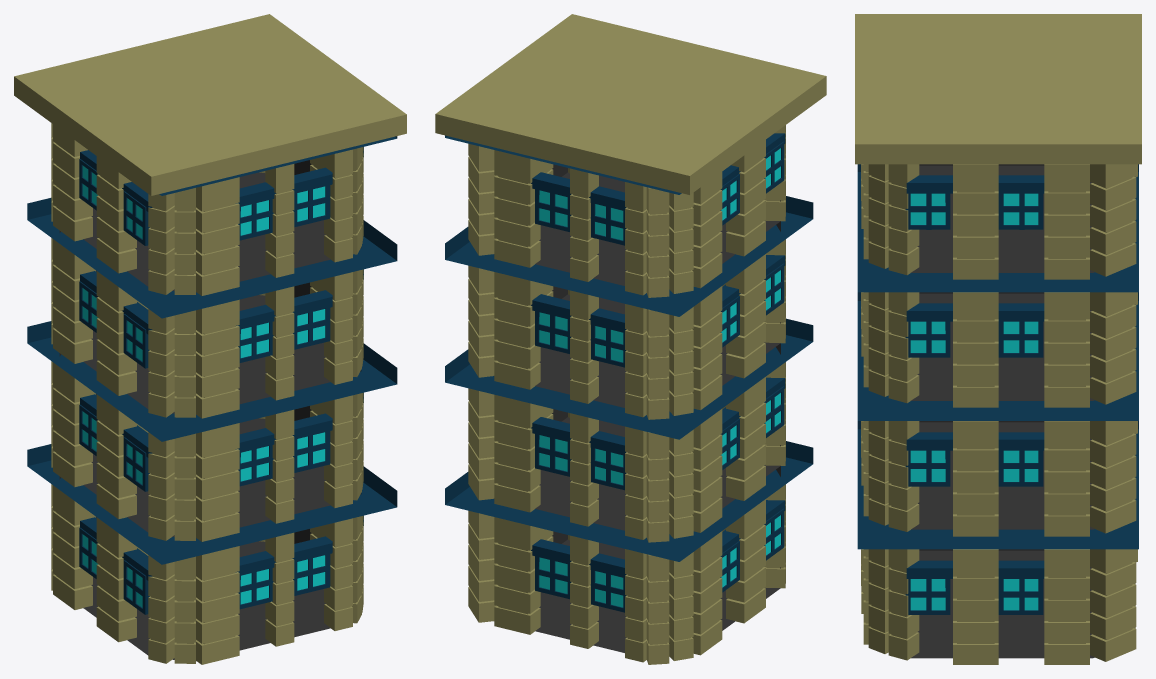
File: buildingBeige2.fbx
3 views of the same model, side by side, from view 1: azimuth 30°, elevation 25°; view 2: azimuth 150°, elevation 25°; view 3: azimuth 270°, elevation 25° (orthographic). The views are drawn at different scales.
Parts seen in each view (by area): view 1: Cube.002, betong.002, betong.001, betong.017, betong.003, Building.001, Building, Building.002, Building.003; view 2: Cube.002, betong.017, betong.001, betong.002, betong.003, Building.001, Building, Building.002, Building.003; view 3: Cube.002, betong.017, betong.002, betong.003, betong.001, Building, Building.001, Building.002, Building.003.
Boxes of the visible parts, x1,y1,x2,y2 form: Cube.002: (14, 14, 406, 195); betong.002: (51, 238, 363, 418); betong.001: (51, 361, 363, 541); betong.017: (51, 484, 363, 664); betong.003: (51, 123, 363, 295); Building.001: (27, 321, 397, 538); Building: (27, 444, 397, 661); Building.002: (27, 198, 397, 414); Building.003: (79, 136, 397, 292); Cube.002: (435, 14, 826, 194); betong.017: (468, 484, 785, 664); betong.001: (468, 362, 785, 542); betong.002: (468, 239, 785, 419); betong.003: (468, 125, 785, 297); Building.001: (445, 318, 813, 530); Building: (445, 441, 813, 652); Building.002: (445, 196, 813, 411); Building.003: (445, 133, 785, 285); Cube.002: (855, 14, 1141, 164); betong.017: (861, 549, 1137, 664); betong.002: (861, 292, 1137, 407); betong.003: (861, 164, 1137, 279); betong.001: (861, 421, 1137, 536); Building: (857, 421, 1138, 658); Building.001: (857, 292, 1138, 529); Building.002: (857, 164, 1138, 400); Building.003: (905, 164, 1094, 272).
Bounding box in the file's own units: 2784 × 5345 × 2590.
